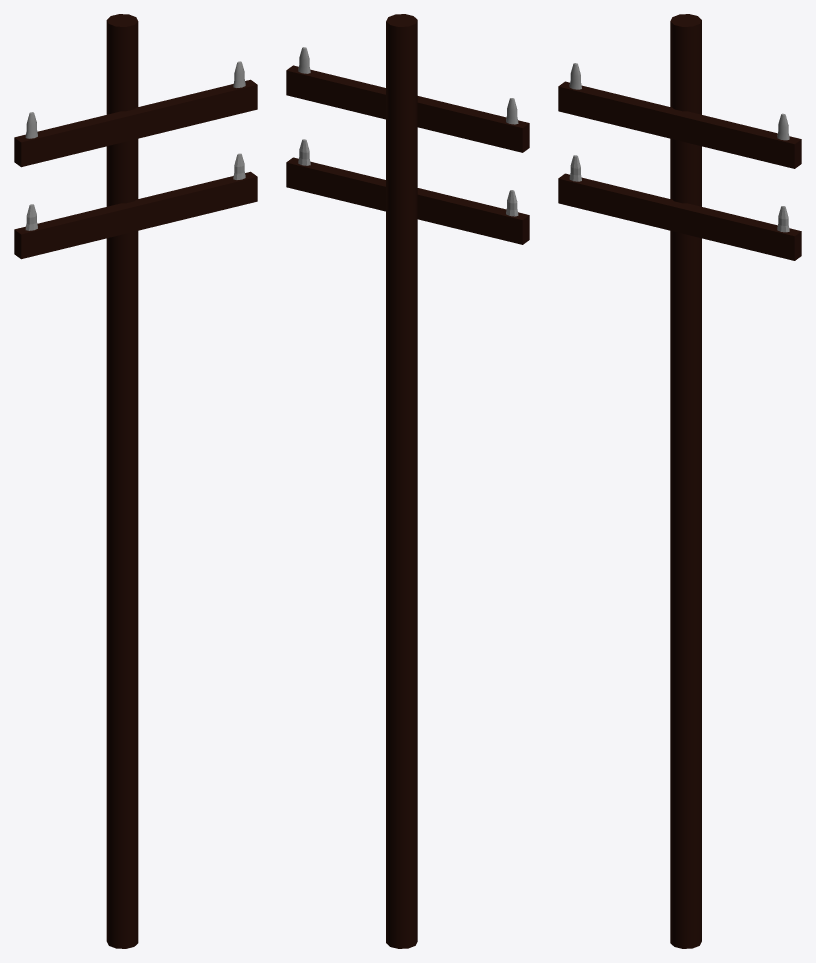
File: direk1.FBX
The picture shows the model from 3 angles, left to right: view 1: azimuth 30°, elevation 25°; view 2: azimuth 150°, elevation 25°; view 3: azimuth 330°, elevation 25°; orthographic projection.
Visible parts, largest first — view 1: Cylinder001; view 2: Cylinder001; view 3: Cylinder001.
Part boxes in pixels (<box>): Cylinder001: <box>14,14,257,948</box>; Cylinder001: <box>286,14,529,948</box>; Cylinder001: <box>558,14,801,948</box>.
Size of the model in its own units: 47288 by 7190 by 176058.
